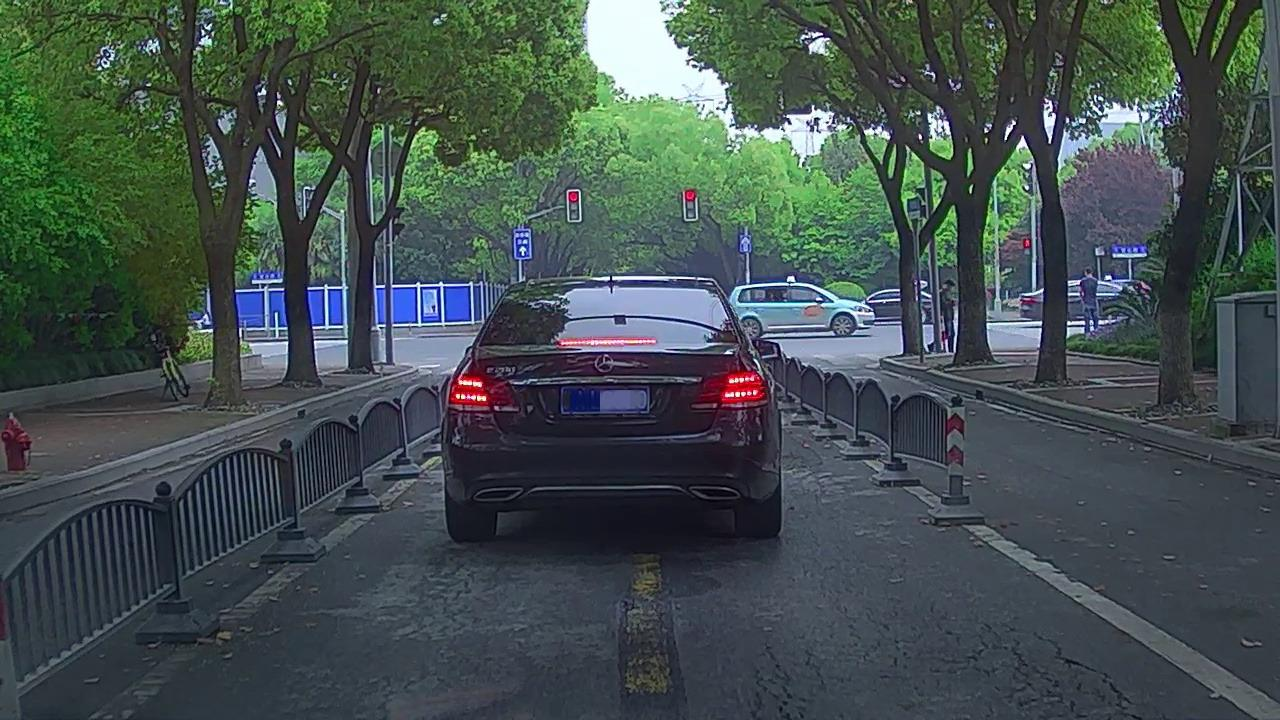traffic_light: (684, 191, 694, 219), (570, 191, 579, 220)
